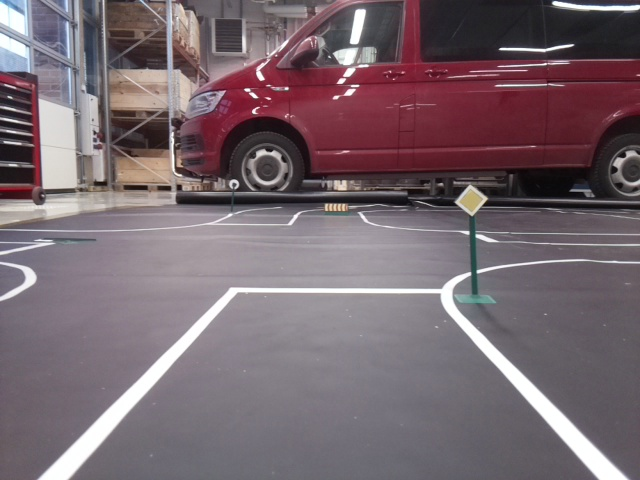Priority: (455, 184, 487, 214)
